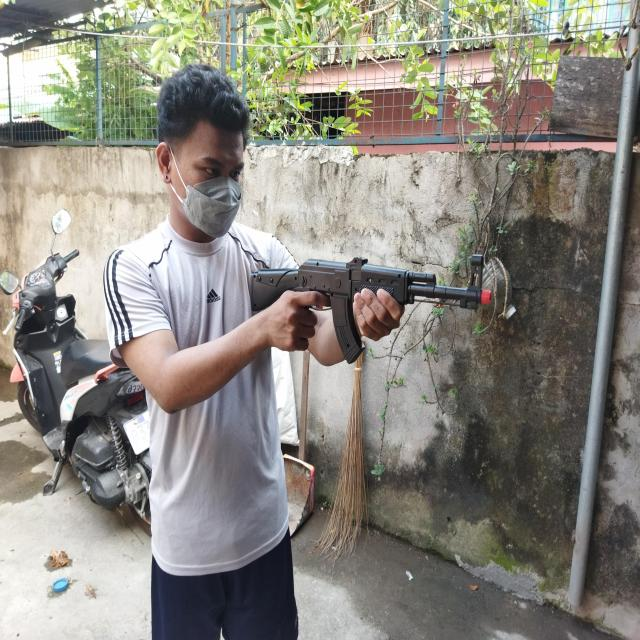rifle: (250, 255, 492, 363)
